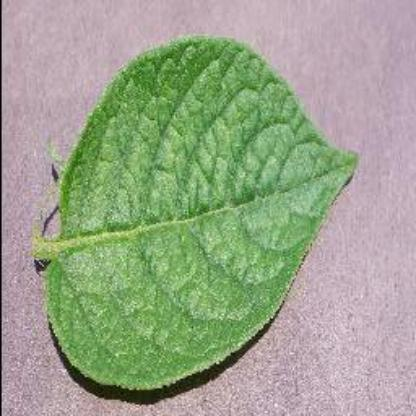Healthy-plant: (18, 10, 390, 386)
